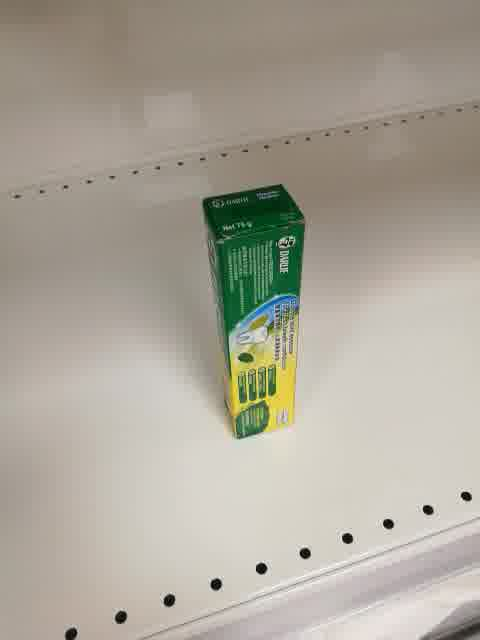toothpaste: (202, 184, 305, 439)
